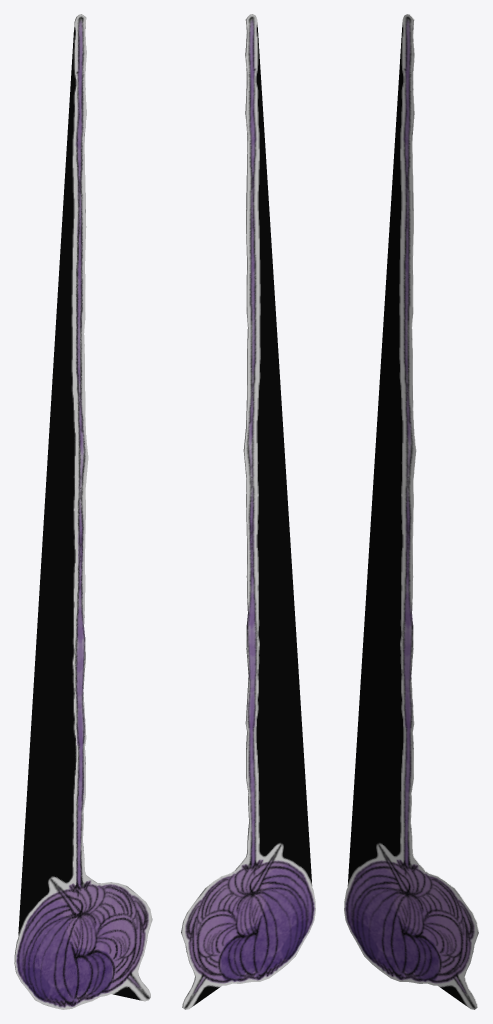
Rendered from 毛線球5.fbx.
The picture shows the model from 3 angles, left to right: view 1: azimuth 30°, elevation 25°; view 2: azimuth 210°, elevation 25°; view 3: azimuth 330°, elevation 25°; orthographic projection. The views are drawn at different scales.
Visible parts, largest first — view 1: 毛線球5; view 2: 毛線球5; view 3: 毛線球5.
Part boxes in pixels (x1,y1,x2,y2): 毛線球5: [14, 14, 152, 1009]; 毛線球5: [181, 14, 315, 1009]; 毛線球5: [344, 14, 478, 1009].
Size of the model in its own units: 280 by 1951 by 2.28.
